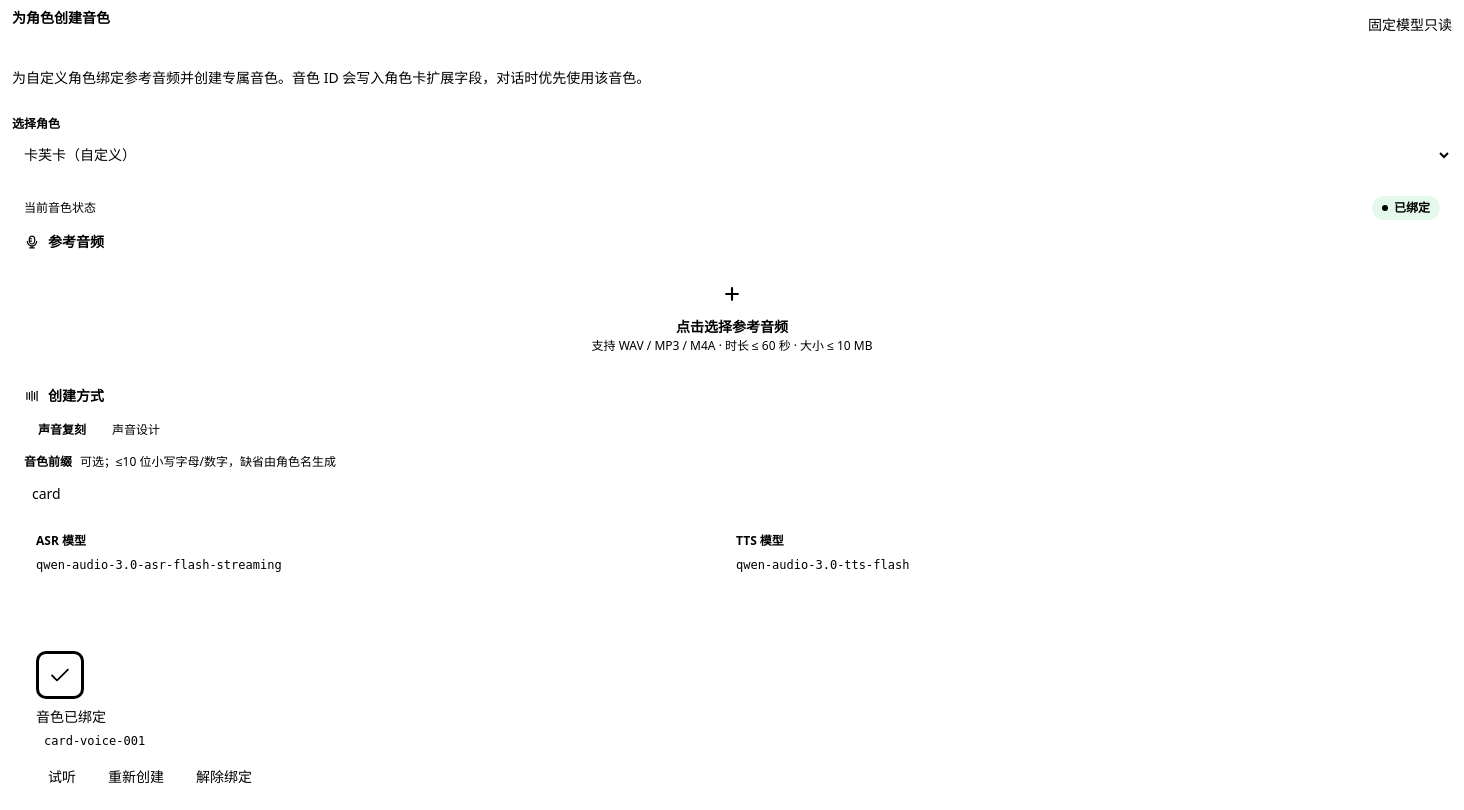
Test: CharacterVoiceSection › 试听被后端拒绝时显示原文
Expected: the field with test id "prefix-input" holds "card", [24,476,1440,510]
Click the button with test id "preview-voice-btn" at (62, 777), box [36,761,88,793]
(page scrolled)
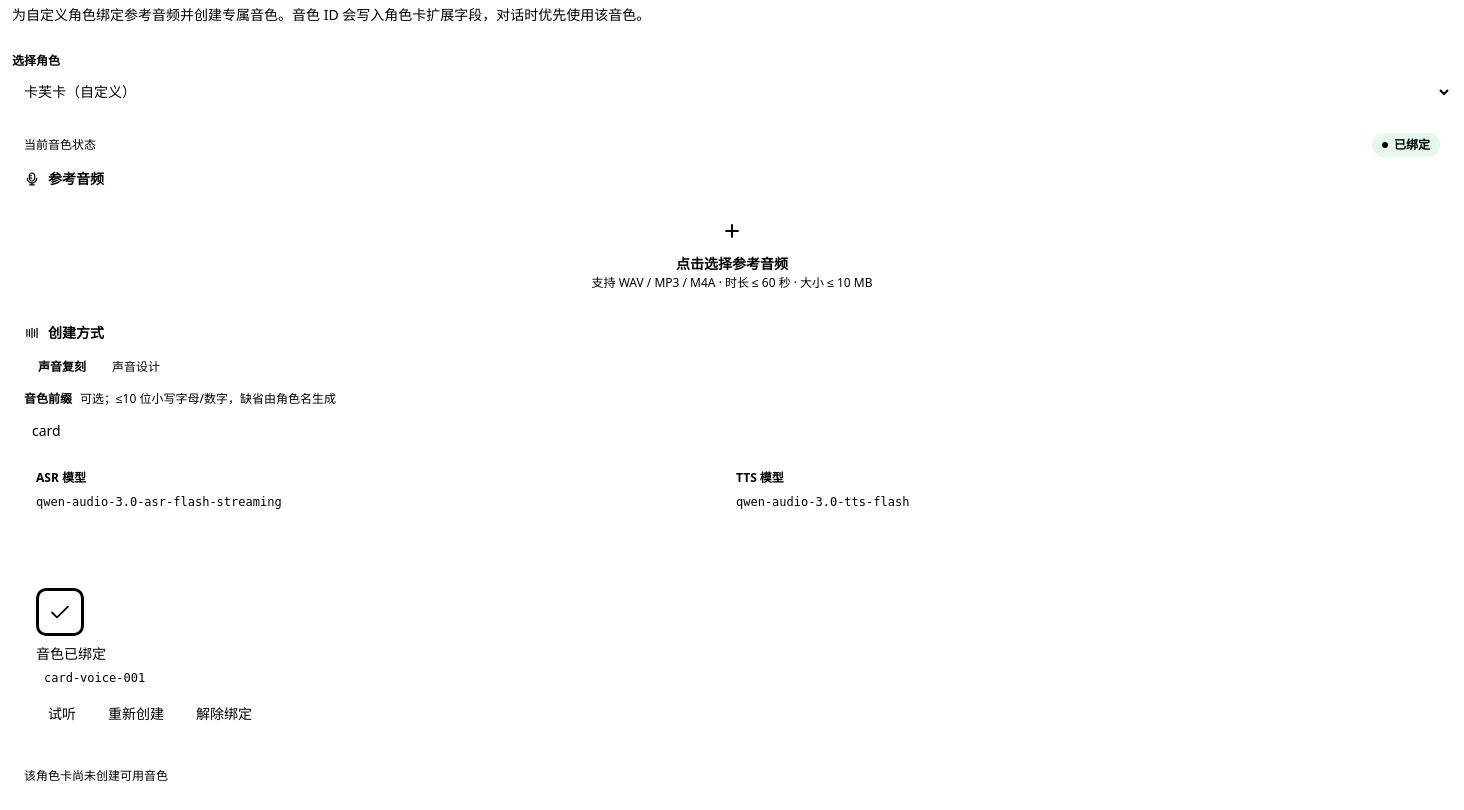
Now the message with test id "operation-error" reads "该角色卡尚未创建可用音色", box [24,767,168,784]
